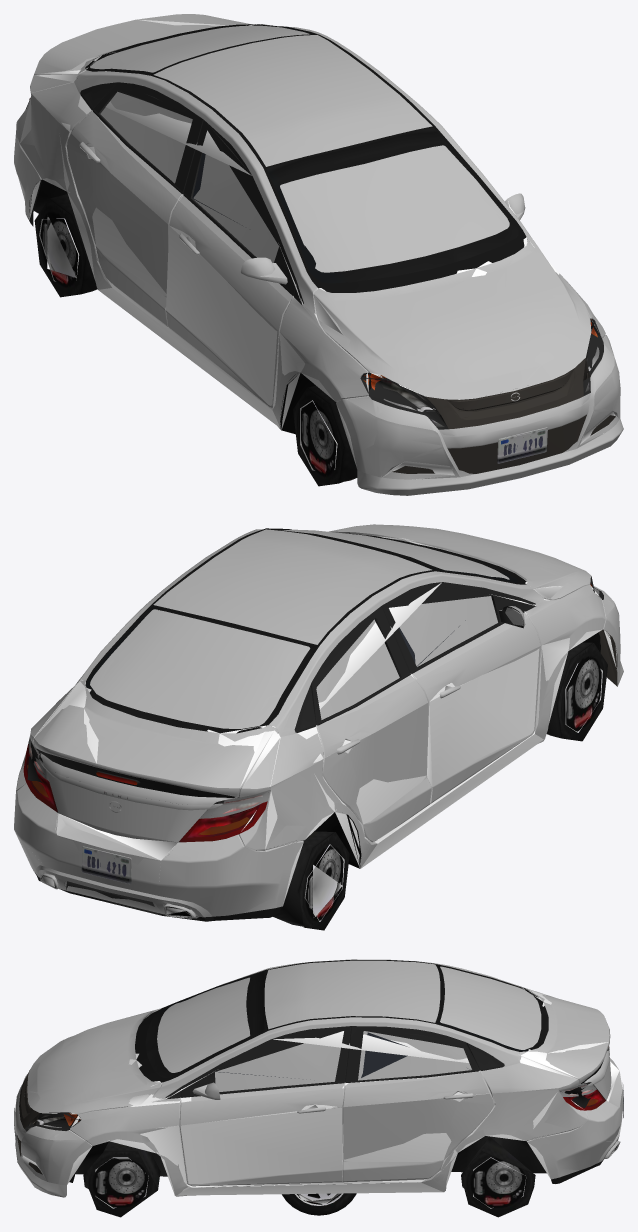
Rendered from kiri.glb.
The picture shows the model from 3 angles, top to bottom: view 1: azimuth 30°, elevation 25°; view 2: azimuth 150°, elevation 25°; view 3: azimuth 270°, elevation 25°; orthographic projection. The views are drawn at different scales.
Visible parts, largest first — view 1: paint0, far, paint1, glass0, kit0, glass1, kit1; view 2: paint0, far, paint1, glass0, kit0, kit1, glass1; view 3: paint0, far, paint1, glass0, kit0, glass1, kit1, wheel0.
Boxes of the visible parts, bbox=[...] form: paint0: bbox=[14, 14, 623, 495]; far: bbox=[20, 19, 617, 486]; paint1: bbox=[14, 16, 621, 493]; glass0: bbox=[90, 25, 509, 272]; kit0: bbox=[29, 24, 615, 473]; glass1: bbox=[90, 25, 464, 262]; kit1: bbox=[25, 25, 603, 463]; paint0: bbox=[14, 524, 623, 915]; far: bbox=[24, 533, 617, 930]; paint1: bbox=[14, 524, 620, 916]; glass0: bbox=[90, 529, 509, 728]; kit0: bbox=[23, 528, 617, 921]; kit1: bbox=[24, 529, 617, 921]; glass1: bbox=[90, 530, 497, 728]; paint0: bbox=[15, 959, 622, 1197]; far: bbox=[14, 965, 619, 1217]; paint1: bbox=[14, 960, 622, 1196]; glass0: bbox=[157, 966, 541, 1083]; kit0: bbox=[14, 960, 623, 1183]; glass1: bbox=[157, 966, 541, 1091]; kit1: bbox=[14, 972, 623, 1183]; wheel0: bbox=[282, 1193, 356, 1215].
Bounding box in the file's own units: 1.71 × 1.78 × 4.36.
1 material, 1 textured.
